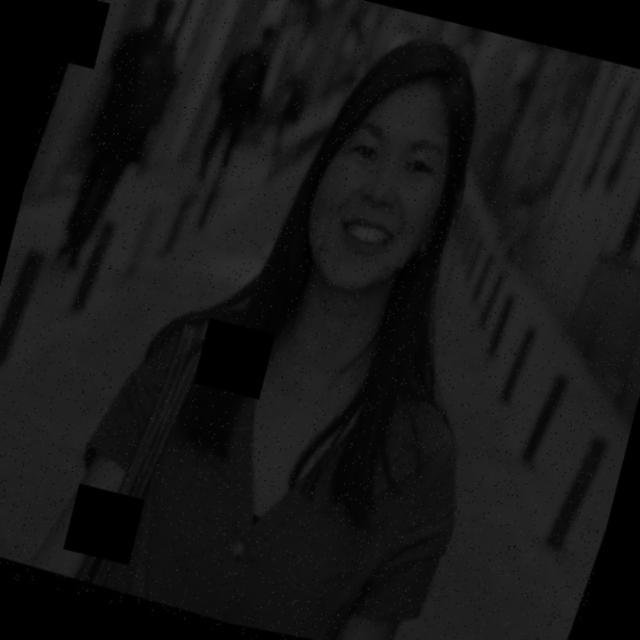Happy: (260, 85, 499, 348)
